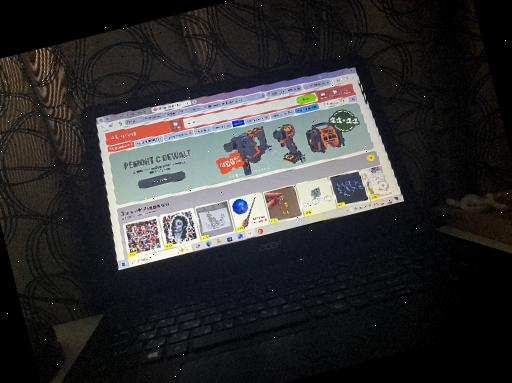aliexpress: (97, 68, 386, 262)
